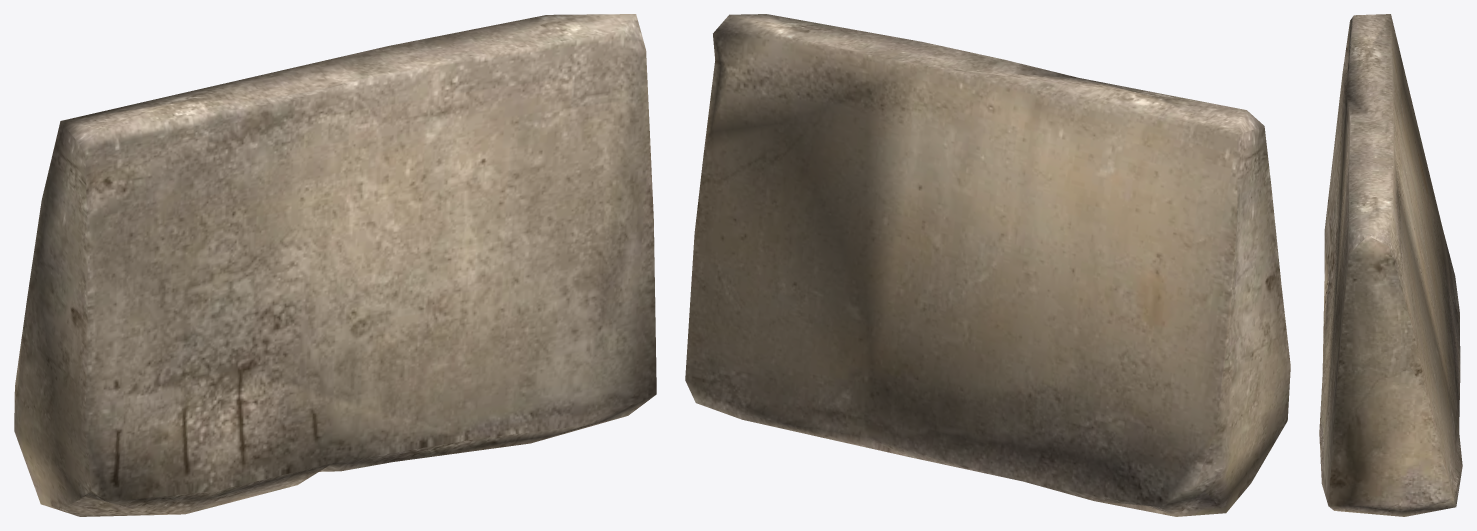
File: concrete_road_barrier_02.glb
3 renders of one model, left to right at view 1: azimuth 30°, elevation 25°; view 2: azimuth 150°, elevation 25°; view 3: azimuth 270°, elevation 25°, orthographic. The views are drawn at different scales.
Parts seen in each view (by area): view 1: concrete_road_barrier_02; view 2: concrete_road_barrier_02; view 3: concrete_road_barrier_02.
Part boxes in pixels (box(x1,y1,x2,y2)): concrete_road_barrier_02: box(14, 14, 656, 516); concrete_road_barrier_02: box(685, 14, 1290, 516); concrete_road_barrier_02: box(1319, 14, 1462, 516).
Size of the model in its own units: 1.55 by 1.03 by 0.4369.
1 material, 1 textured.
